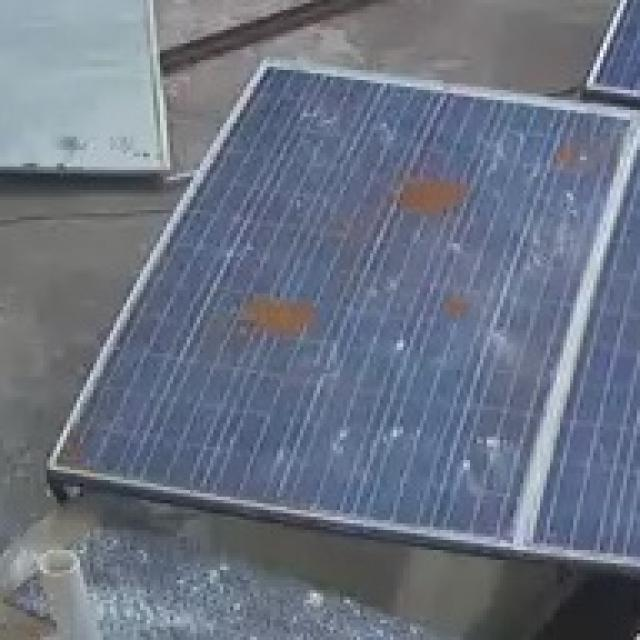Bird-drop: (448, 425, 515, 497), (539, 184, 586, 254), (320, 421, 432, 449), (485, 326, 530, 376), (358, 273, 400, 303), (267, 437, 299, 476), (217, 240, 254, 270), (299, 102, 337, 130), (384, 332, 414, 357), (442, 243, 468, 255)
Dusty: (218, 302, 334, 346), (385, 170, 475, 217), (548, 135, 596, 179), (431, 280, 476, 326)
